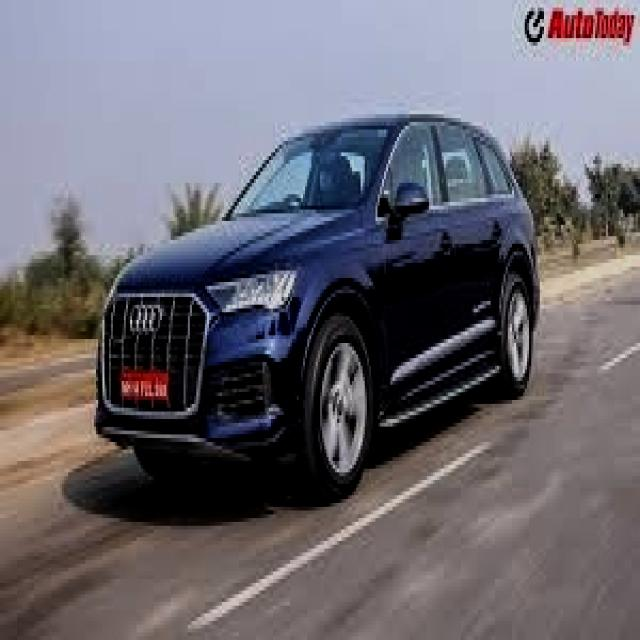blue: (94, 113, 541, 527)
